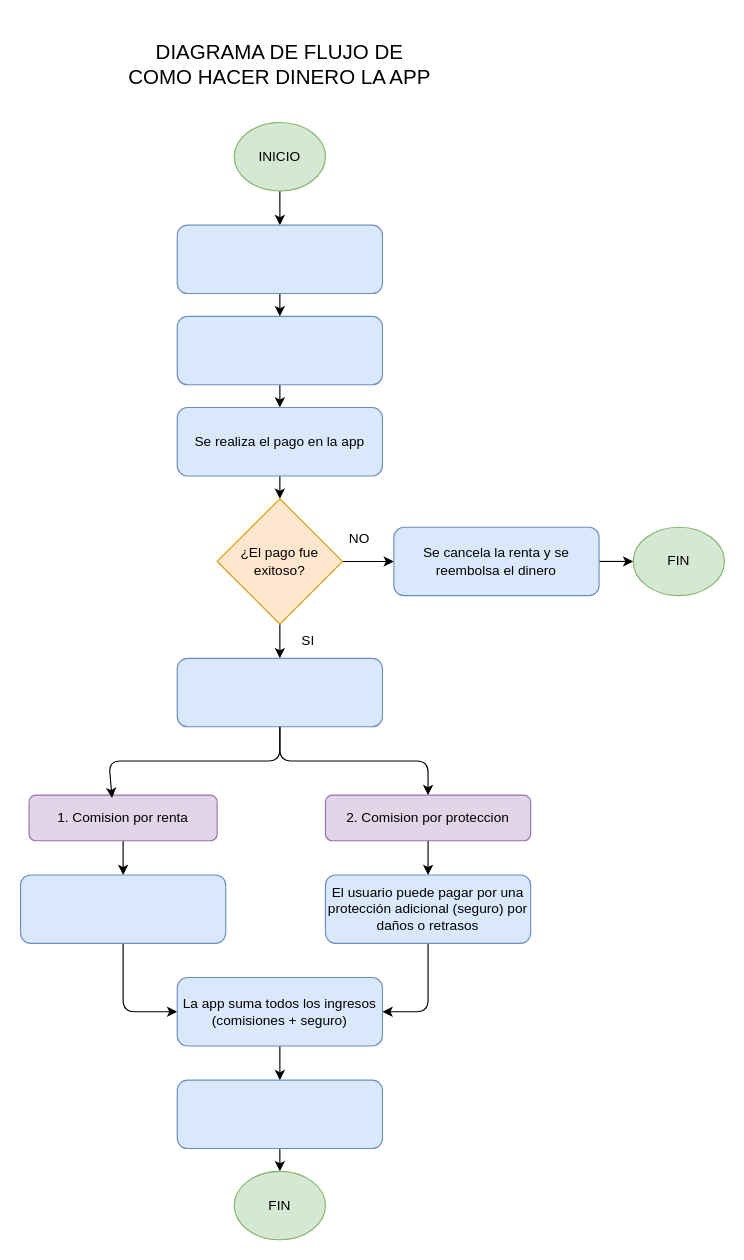
Some shapes in this 744 by 1260 pixel diagram are drawn without their labels. The shapes that lost their labels are listed below. From the top down, each one's box as (x1, y1, x2, y2) in pixels, then its label:
(176, 224, 382, 294): El usuario publica su juego en la app (precio y tiempo de renta)
(176, 315, 382, 385): Otro usuario busca y renta el juego
(176, 657, 382, 727): La app cobra una comision por transaccion
(19, 874, 226, 943): La app cobra un porcentaje por cada renta (ej: 10%)
(176, 1079, 382, 1149): La app obtiene ganancias
